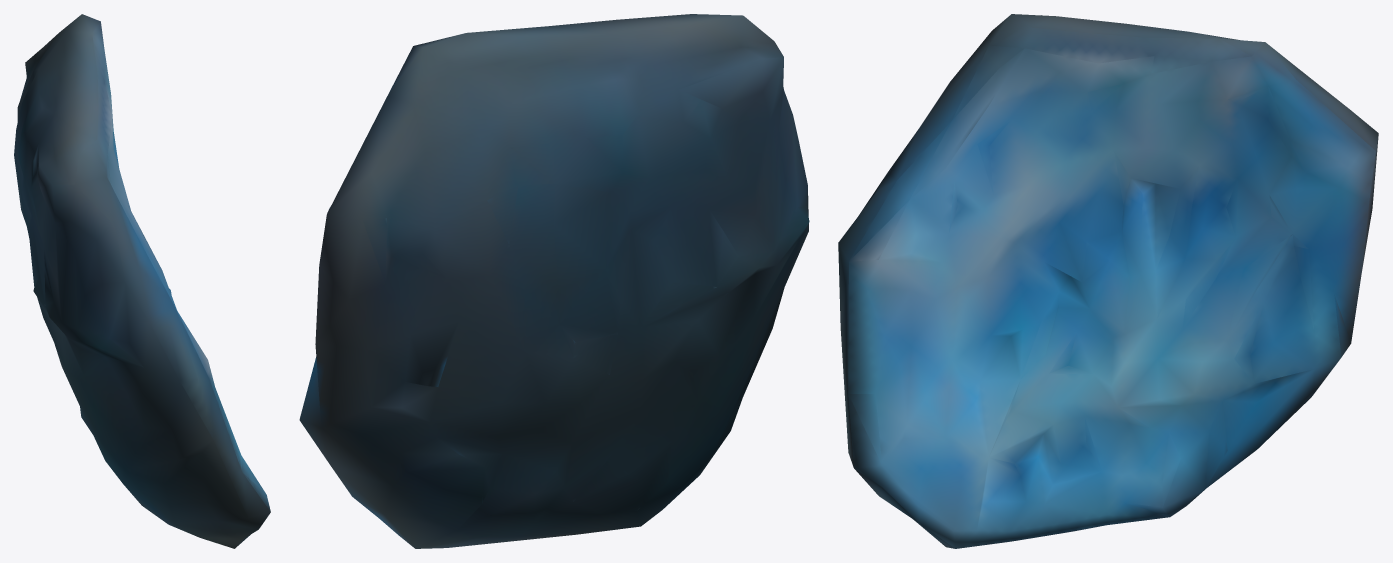
Rendered from gem_rime.glb.
3 renders of one model, left to right at view 1: azimuth 30°, elevation 25°; view 2: azimuth 150°, elevation 25°; view 3: azimuth 270°, elevation 25°, orthographic. The views are drawn at different scales.
Visible parts, largest first — view 1: model; view 2: model; view 3: model.
Part boxes in pixels (<box>): model: <box>14,14,270,548</box>; model: <box>299,14,809,548</box>; model: <box>838,14,1378,548</box>.
Size of the model in its own units: 0.195 by 0.3987 by 0.3922.
1 material, 1 textured.
